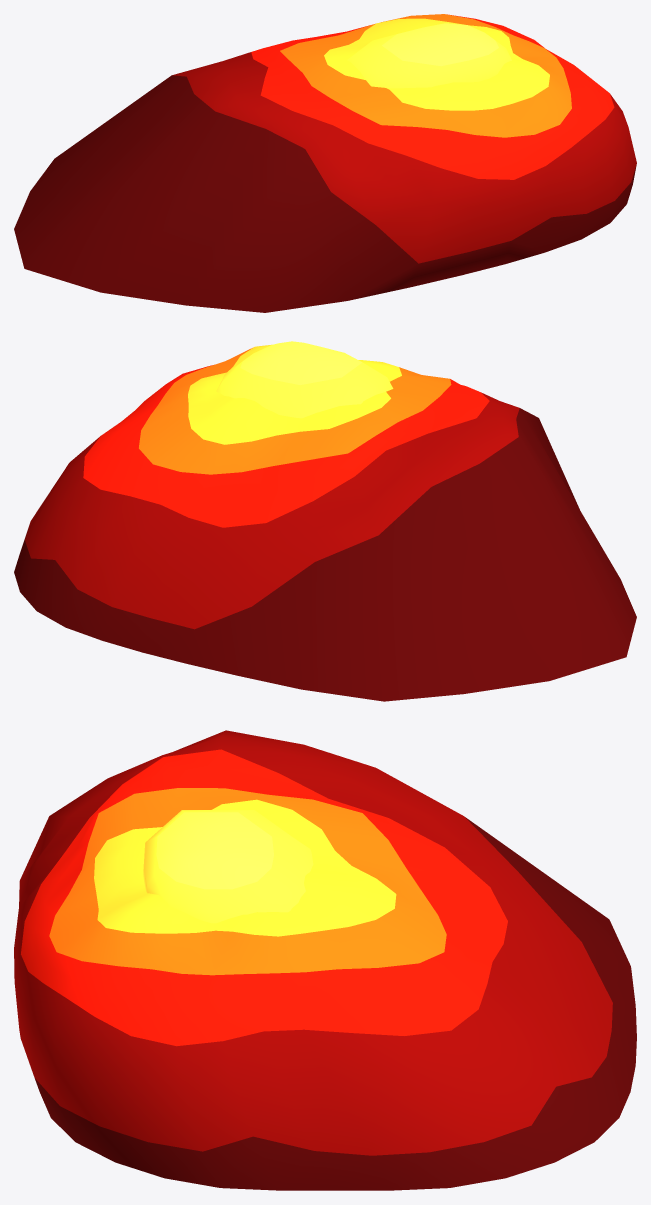
Rendered from shot_eminor_7.glb.
3 renders of one model, top to bottom at view 1: azimuth 30°, elevation 25°; view 2: azimuth 150°, elevation 25°; view 3: azimuth 270°, elevation 25°, orthographic. The views are drawn at different scales.
Parts seen in each view (by area): view 1: shot_eminor_7_fire, shot_eminor_7_heart; view 2: shot_eminor_7_fire, shot_eminor_7_heart; view 3: shot_eminor_7_fire, shot_eminor_7_heart.
Boxes of the visible parts, x1,y1,x2,y2 form: shot_eminor_7_fire: [14, 14, 636, 312]; shot_eminor_7_heart: [347, 23, 511, 88]; shot_eminor_7_fire: [14, 344, 636, 701]; shot_eminor_7_heart: [216, 341, 393, 418]; shot_eminor_7_fire: [14, 730, 636, 1190]; shot_eminor_7_heart: [143, 810, 313, 923].
Bounding box in the file's own units: 11.2 × 3.38 × 8.25.
